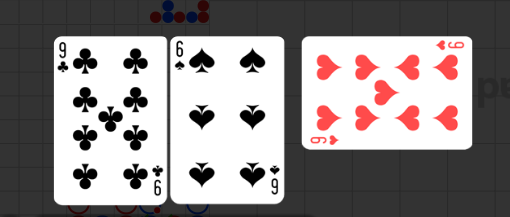9C: (57, 42, 71, 76)
9H: (310, 134, 342, 147), (435, 41, 466, 53)
